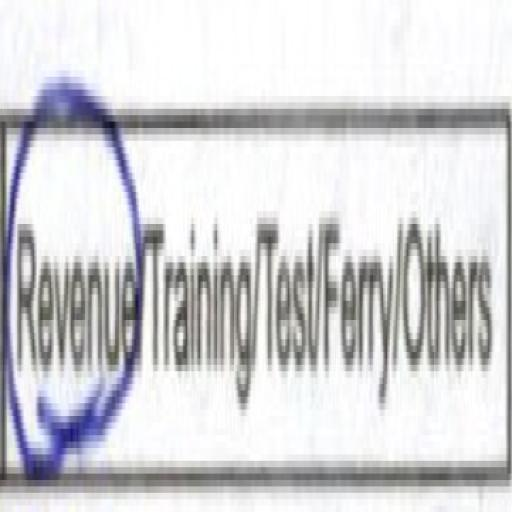check: (0, 18, 142, 512)
